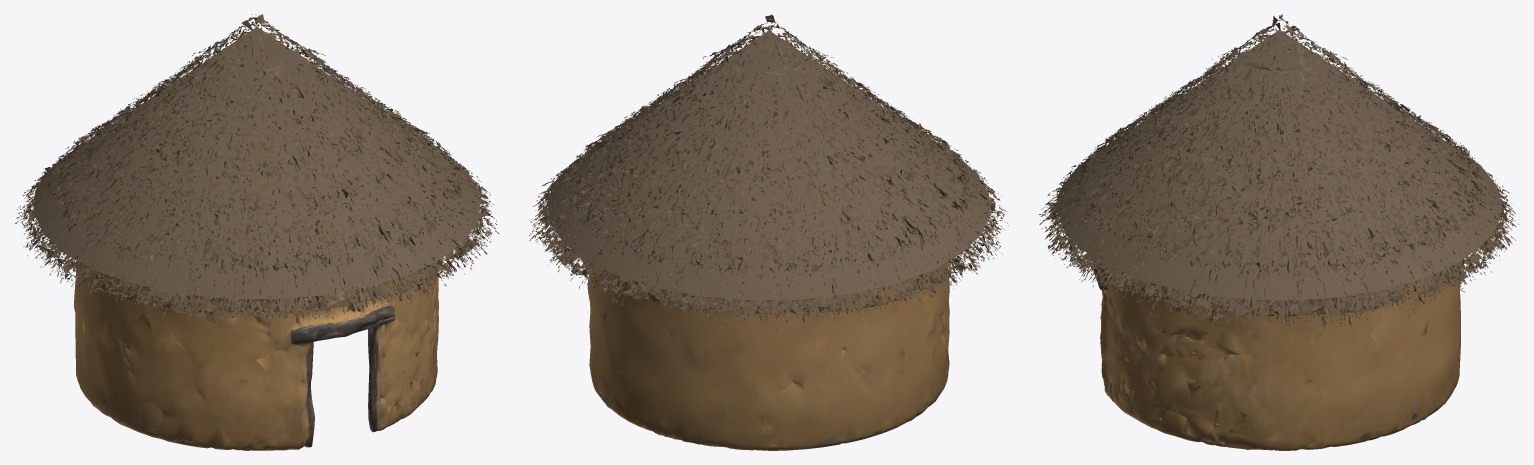
File: mud-hut.glb
3 views of the same model, side by side, from view 1: azimuth 30°, elevation 25°; view 2: azimuth 150°, elevation 25°; view 3: azimuth 270°, elevation 25° (orthographic).
Visible parts, largest first — view 1: Mesh_0; view 2: Mesh_0; view 3: Mesh_0.
Part boxes in pixels (x1,y1,x2,y2): Mesh_0: (15, 14, 499, 450); Mesh_0: (528, 14, 1008, 450); Mesh_0: (1039, 14, 1519, 450).
Size of the model in its own units: 3.62 by 3 by 3.62.
Materials: 1 (1 with a texture image).
